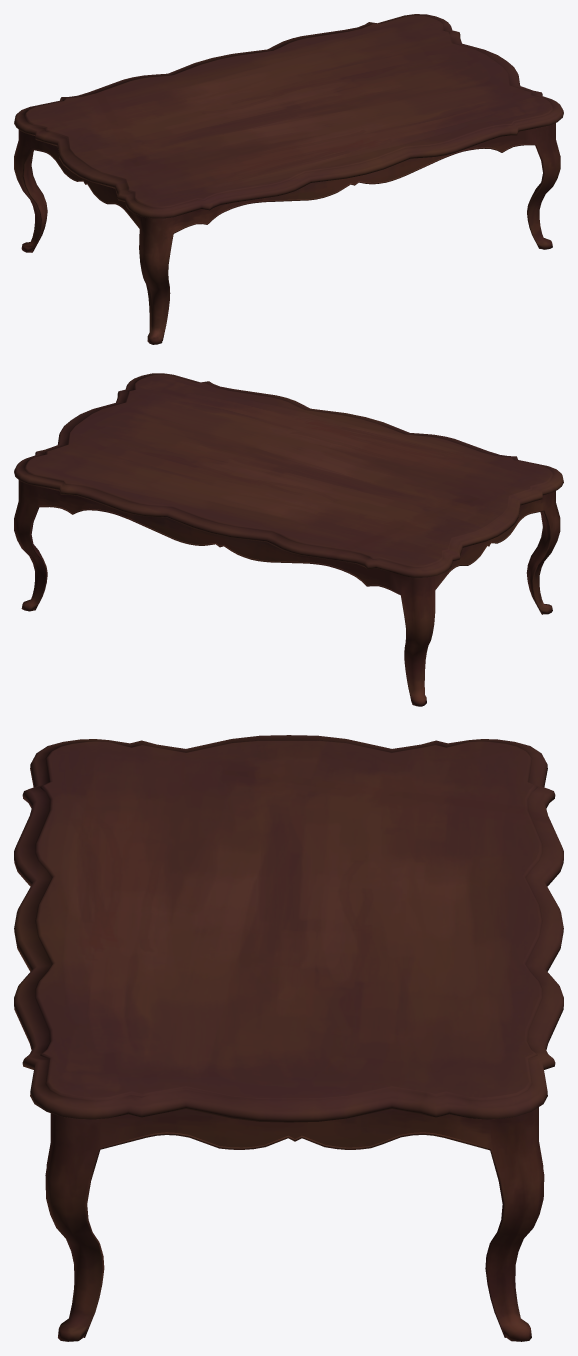
Rendered from MesitaV2.fbx.
3 views of the same model, one above another, from view 1: azimuth 30°, elevation 25°; view 2: azimuth 150°, elevation 25°; view 3: azimuth 270°, elevation 25° (orthographic). The views are drawn at different scales.
Visible parts, largest first — view 1: Mesita; view 2: Mesita; view 3: Mesita.
Part boxes in pixels (x1,y1,x2,y2): Mesita: (14, 14, 563, 344); Mesita: (14, 373, 563, 706); Mesita: (14, 735, 563, 1341).
Bounding box in the file's own units: 147 × 44.62 × 89.92.
